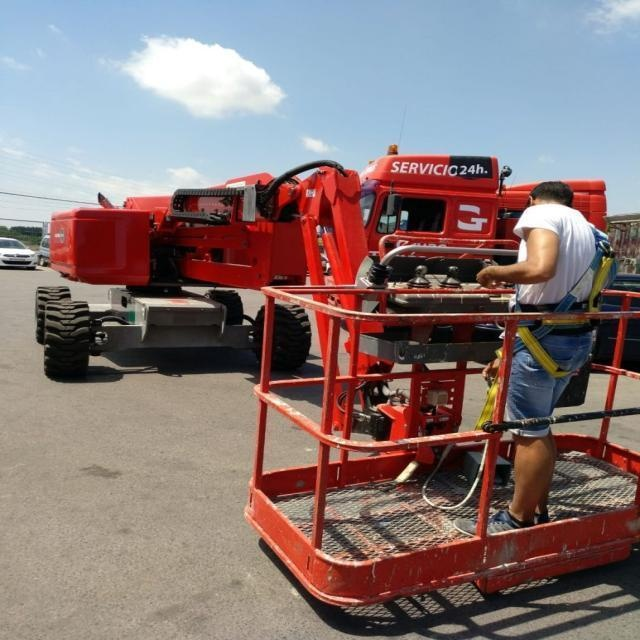Arnes_seguridad: (511, 221, 615, 371)
